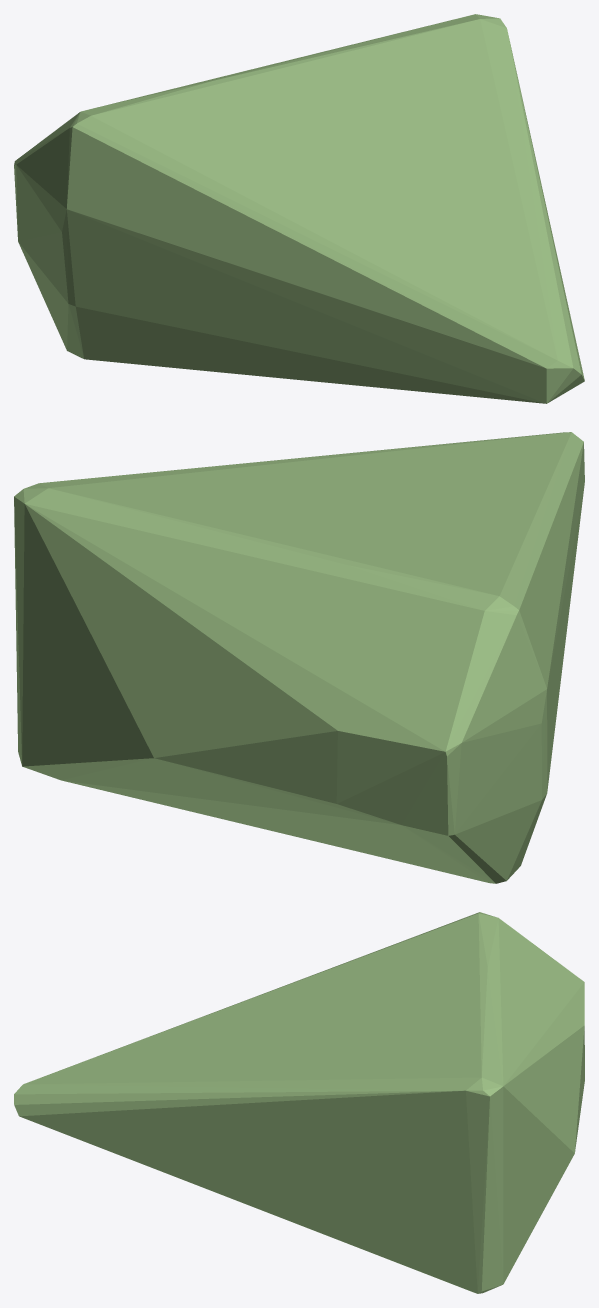
The model's file is vehicleSupport_floor_jack_b01.glb.
3 renders of one model, top to bottom at view 1: azimuth 30°, elevation 25°; view 2: azimuth 150°, elevation 25°; view 3: azimuth 270°, elevation 25°, orthographic. The views are drawn at different scales.
Parts seen in each view (by area): view 1: geometry_0; view 2: geometry_0; view 3: geometry_0.
Boxes of the visible parts, bbox=[...] form: geometry_0: bbox=[14, 14, 584, 403]; geometry_0: bbox=[14, 432, 584, 883]; geometry_0: bbox=[14, 912, 584, 1293].
Size of the model in its own units: 0.3757 by 0.1961 by 0.4796.
